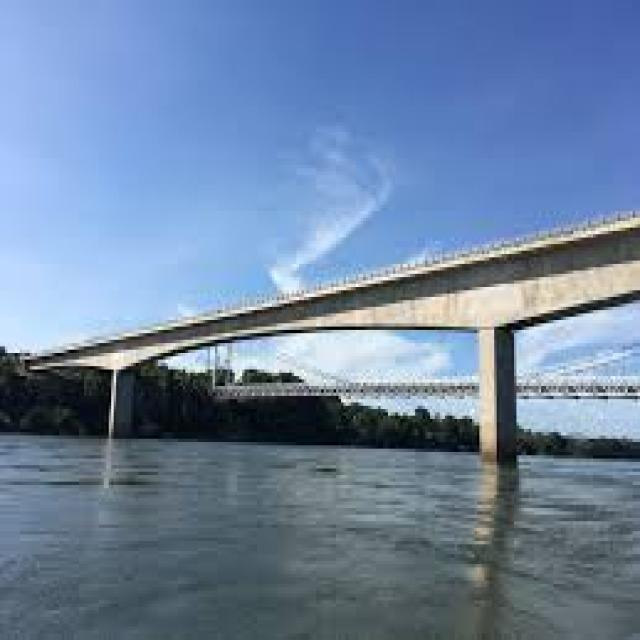Bridges: (15, 191, 640, 505)
